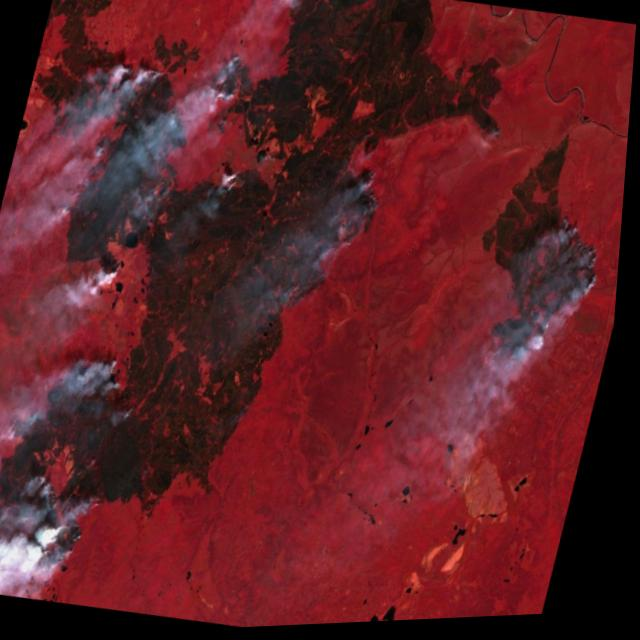fire: (0, 324, 150, 586), (86, 18, 266, 171), (519, 201, 627, 371), (87, 236, 139, 303)
